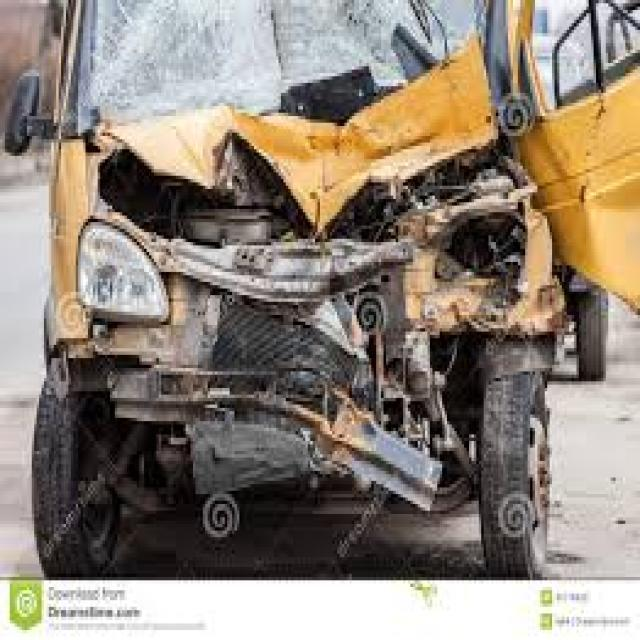damaged-windscreen: (78, 0, 496, 133)
